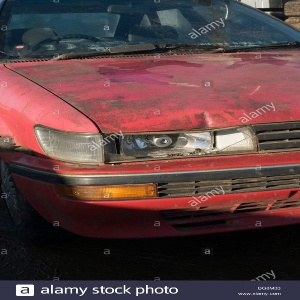head_lights: (45, 127, 264, 161)
